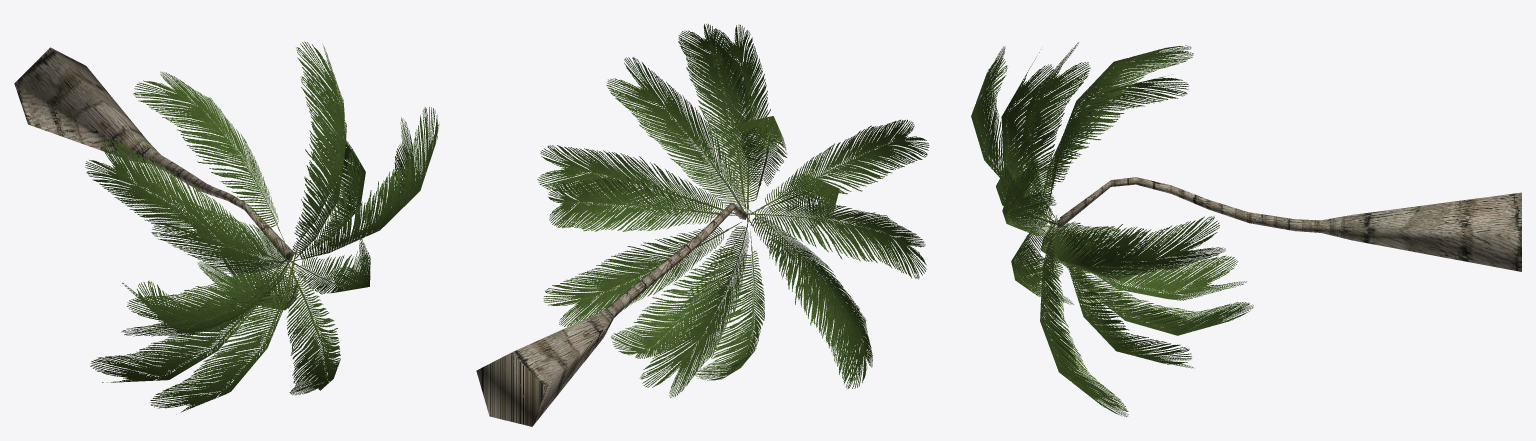
File: palm2.obj
3 renders of one model, left to right at view 1: azimuth 30°, elevation 25°; view 2: azimuth 150°, elevation 25°; view 3: azimuth 270°, elevation 25°, orthographic. The views are drawn at different scales.
Parts seen in each view (by area): view 1: l1_3_35, Group17; view 2: l1_3_35, Group17; view 3: l1_3_35, Group17.
Part boxes in pixels (bbox=[...]): l1_3_35: bbox=[85, 41, 439, 414]; Group17: bbox=[14, 47, 293, 260]; l1_3_35: bbox=[537, 24, 929, 397]; Group17: bbox=[476, 202, 747, 426]; l1_3_35: bbox=[971, 42, 1253, 417]; Group17: bbox=[1057, 177, 1521, 271].
Size of the model in its own units: 20.55 by 21.47 by 27.33.
2 materials, 2 textured.
